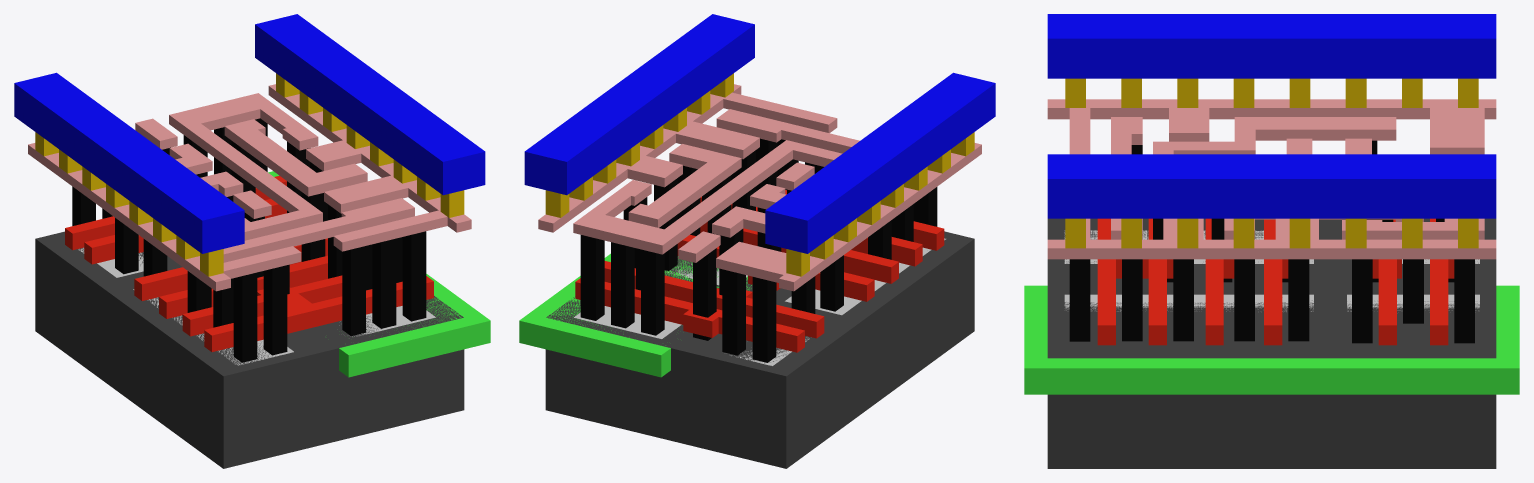
File: sky130_fd_sc_hd__a22o_2.obj
3 renders of one model, left to right at view 1: azimuth 30°, elevation 25°; view 2: azimuth 150°, elevation 25°; view 3: azimuth 270°, elevation 25°, orthographic. The views are drawn at different scales.
Parts seen in each view (by area): view 1: subs, metal1, li, licon, poly, mcon, nwell, diff, tap; view 2: subs, metal1, li, licon, poly, nwell, mcon, diff, tap; view 3: metal1, subs, li, nwell, licon, poly, mcon, tap, diff.
Boxes of the visible parts, bbox=[...] form: subs: bbox=[35, 231, 464, 468]; metal1: bbox=[14, 14, 485, 253]; li: bbox=[28, 84, 471, 291]; licon: bbox=[72, 118, 426, 362]; poly: bbox=[65, 175, 433, 351]; mcon: bbox=[35, 73, 464, 276]; nwell: bbox=[268, 171, 490, 377]; diff: bbox=[78, 247, 293, 365]; tap: bbox=[339, 306, 435, 336]; subs: bbox=[545, 231, 974, 468]; metal1: bbox=[524, 14, 995, 253]; li: bbox=[538, 84, 981, 291]; licon: bbox=[580, 138, 937, 362]; poly: bbox=[575, 190, 944, 352]; nwell: bbox=[519, 253, 751, 377]; mcon: bbox=[545, 73, 974, 276]; diff: bbox=[730, 238, 945, 365]; tap: bbox=[574, 262, 747, 338]; metal1: bbox=[1047, 14, 1496, 218]; subs: bbox=[1047, 218, 1496, 468]; li: bbox=[1047, 99, 1496, 259]; nwell: bbox=[1024, 285, 1519, 394]; licon: bbox=[1069, 140, 1474, 343]; poly: bbox=[1097, 218, 1454, 345]; mcon: bbox=[1065, 78, 1478, 248]; tap: bbox=[1064, 294, 1479, 311]; diff: bbox=[1064, 230, 1479, 263].
Size of the model in its own units: 3.2 by 2.74 by 4.06.
